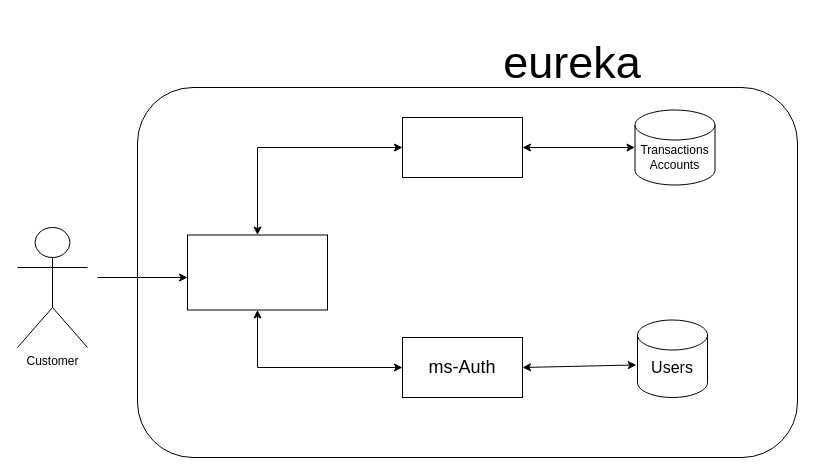
Image size: 815x475. Some labels were removed from this diagram. Each missing label, with the centre of its shape:
"Gateway" goes at point 257,272.
"ms-Transfer" goes at point 462,147.
